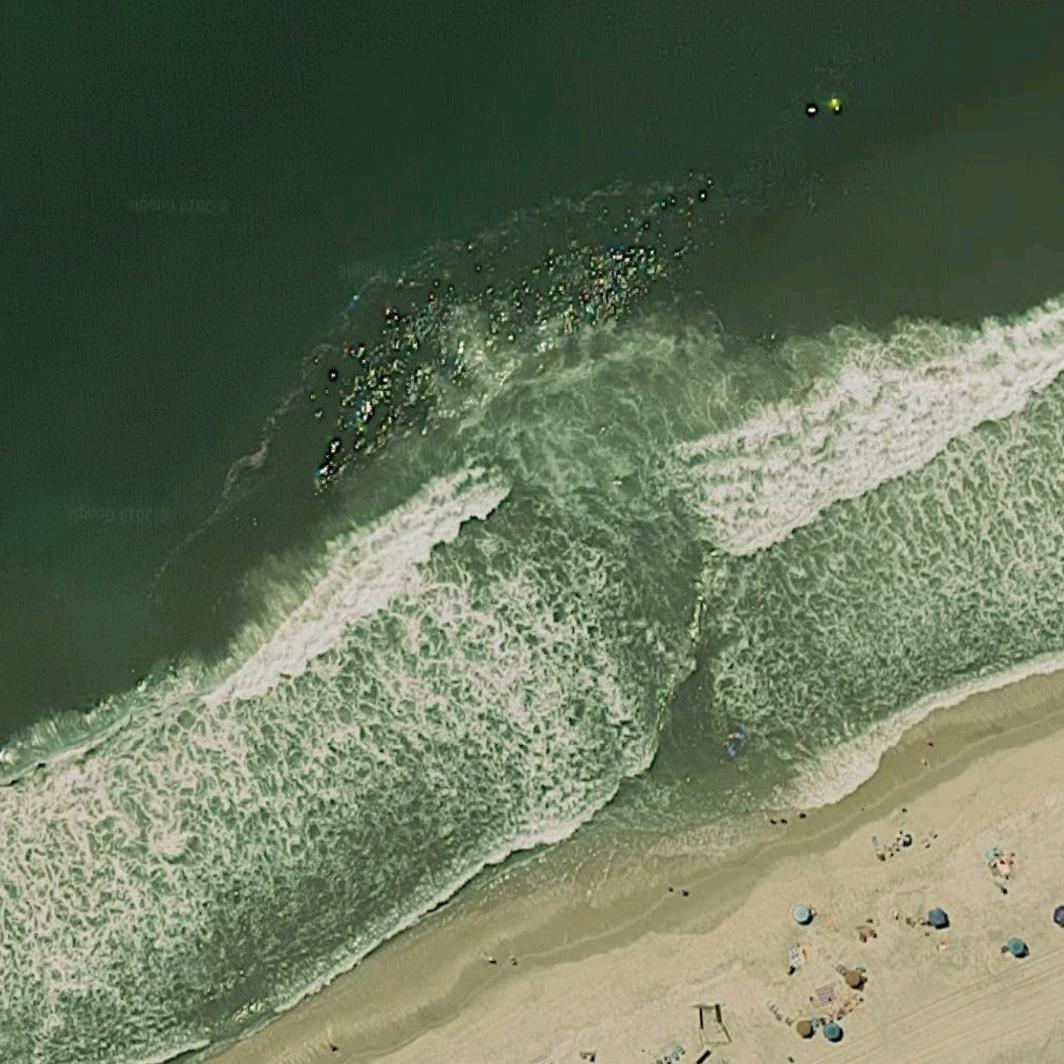rip_current: (332, 207, 743, 653)
